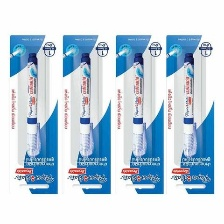correction_fluid: (22, 49, 45, 162), (75, 50, 96, 161), (179, 50, 200, 161), (130, 50, 149, 160)
